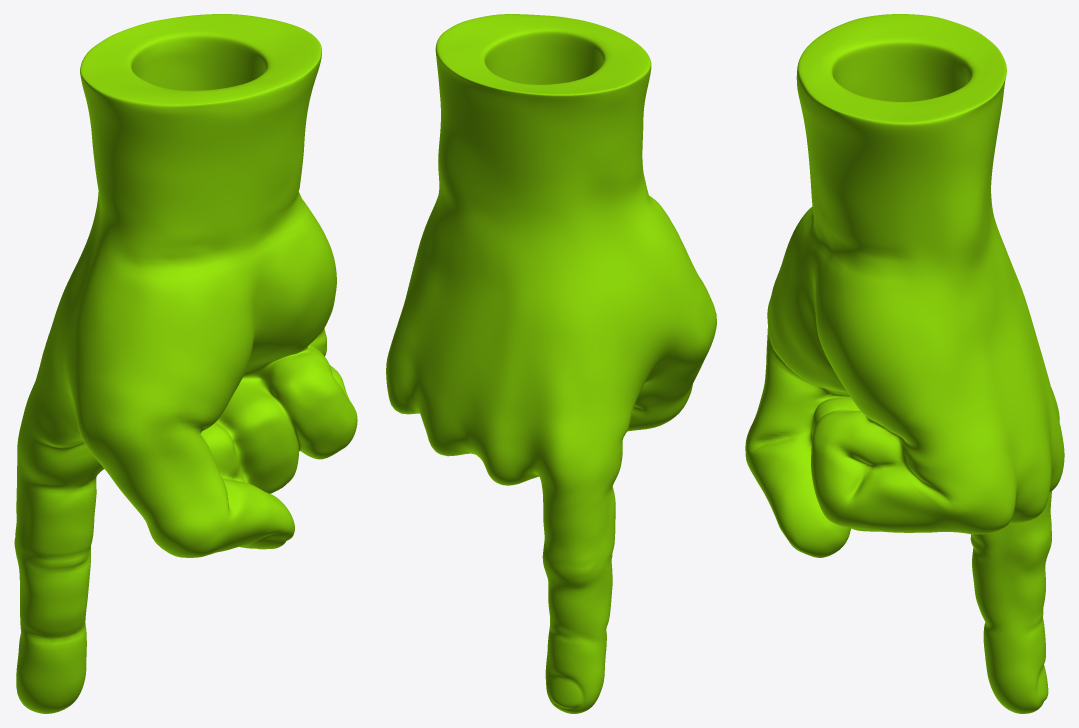
Rendered from joy.glb.
3 renders of one model, left to right at view 1: azimuth 30°, elevation 25°; view 2: azimuth 150°, elevation 25°; view 3: azimuth 270°, elevation 25°, orthographic. The views are drawn at different scales.
Visible parts, largest first — view 1: node_id6; view 2: node_id6; view 3: node_id6.
Part boxes in pixels (<box>): node_id6: <box>14,14,357,713</box>; node_id6: <box>386,14,716,713</box>; node_id6: <box>745,14,1064,713</box>.
Size of the model in its own units: 0.00235 by 0.00512 by 0.00215.
